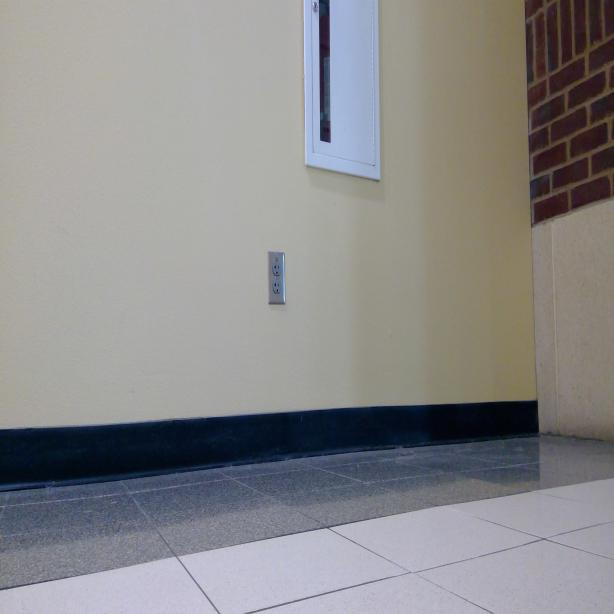typeb: (273, 261, 281, 277), (272, 281, 281, 294)
